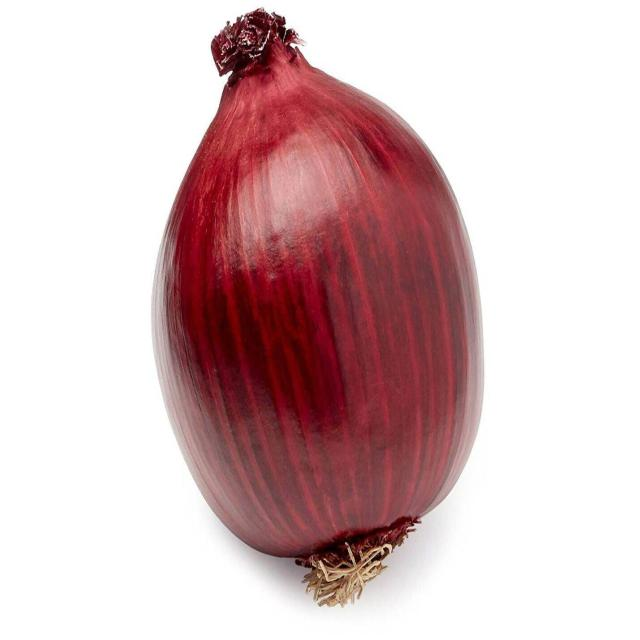onion: (150, 5, 487, 610)
